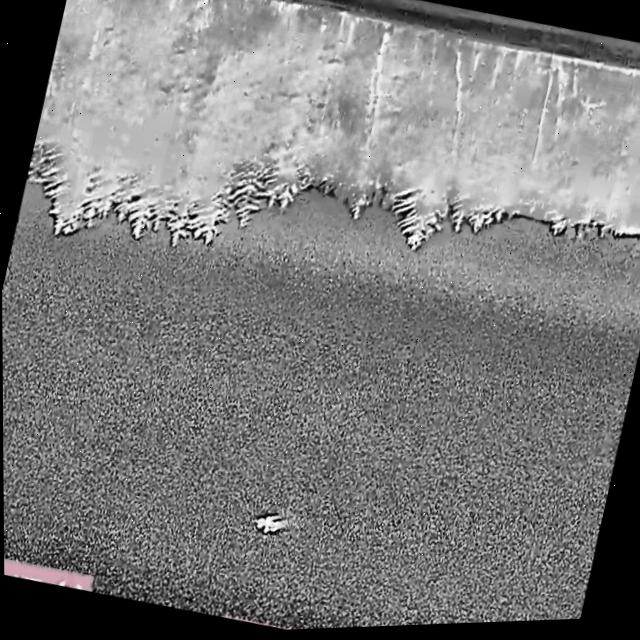drone: (248, 510, 282, 541)
